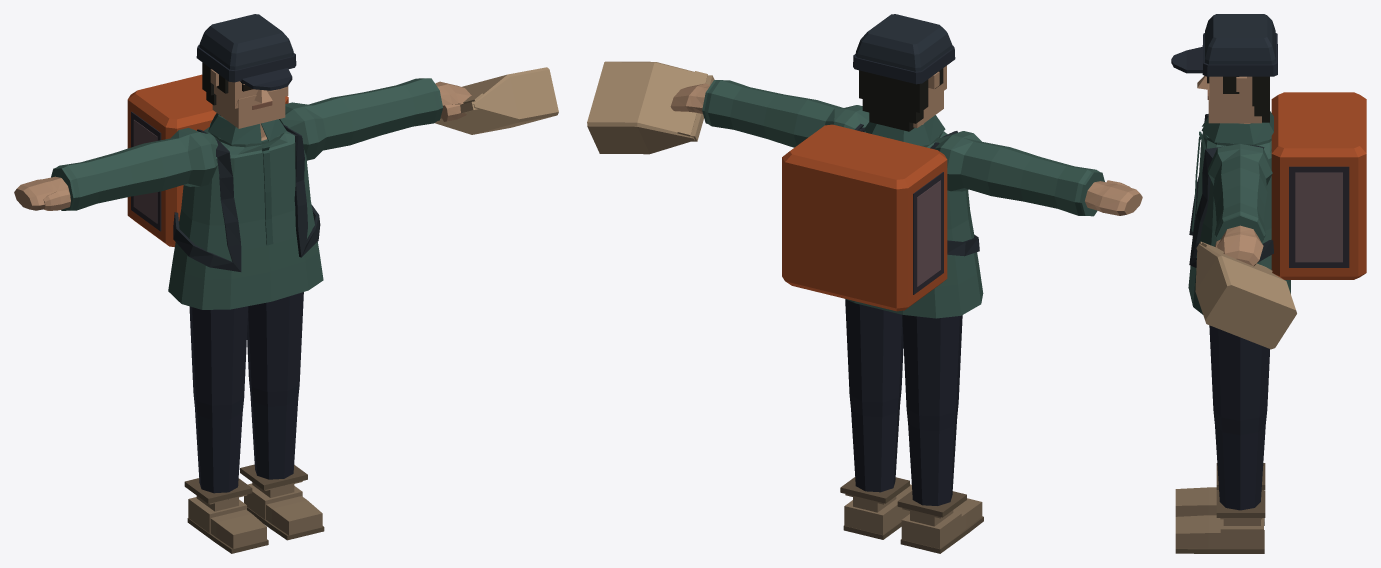
The model's file is delivery-courier-327e30.glb.
The picture shows the model from 3 angles, left to right: view 1: azimuth 30°, elevation 25°; view 2: azimuth 150°, elevation 25°; view 3: azimuth 270°, elevation 25°; orthographic projection. The views are drawn at different scales.
Parts seen in each view (by area): view 1: delivery-courier-327e30; view 2: delivery-courier-327e30; view 3: delivery-courier-327e30.
Part boxes in pixels (x1,y1,x2,y2): delivery-courier-327e30: (14,14,558,553); delivery-courier-327e30: (587,14,1142,553); delivery-courier-327e30: (1171,14,1366,553).
Size of the model in its own units: 1.95 by 1.76 by 0.6173.
